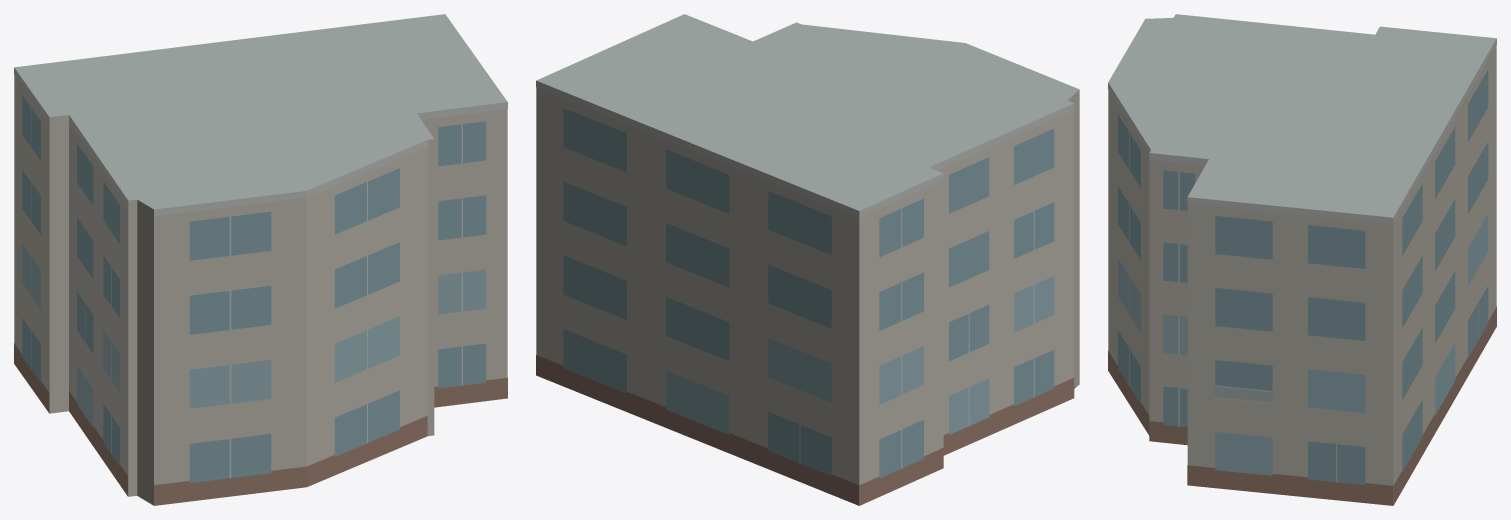
File: survey-upis-32984752.glb
3 renders of one model, left to right at view 1: azimuth 30°, elevation 25°; view 2: azimuth 150°, elevation 25°; view 3: azimuth 270°, elevation 25°, orthographic. The views are drawn at different scales.
Parts seen in each view (by area): view 1: survey-upis-32984752.tmp; view 2: survey-upis-32984752.tmp; view 3: survey-upis-32984752.tmp.
Boxes of the visible parts, bbox=[...] form: survey-upis-32984752.tmp: bbox=[14, 14, 507, 505]; survey-upis-32984752.tmp: bbox=[536, 14, 1079, 505]; survey-upis-32984752.tmp: bbox=[1108, 14, 1496, 505].
Bounding box in the file's own units: 15.76 × 10.4 × 12.72.
